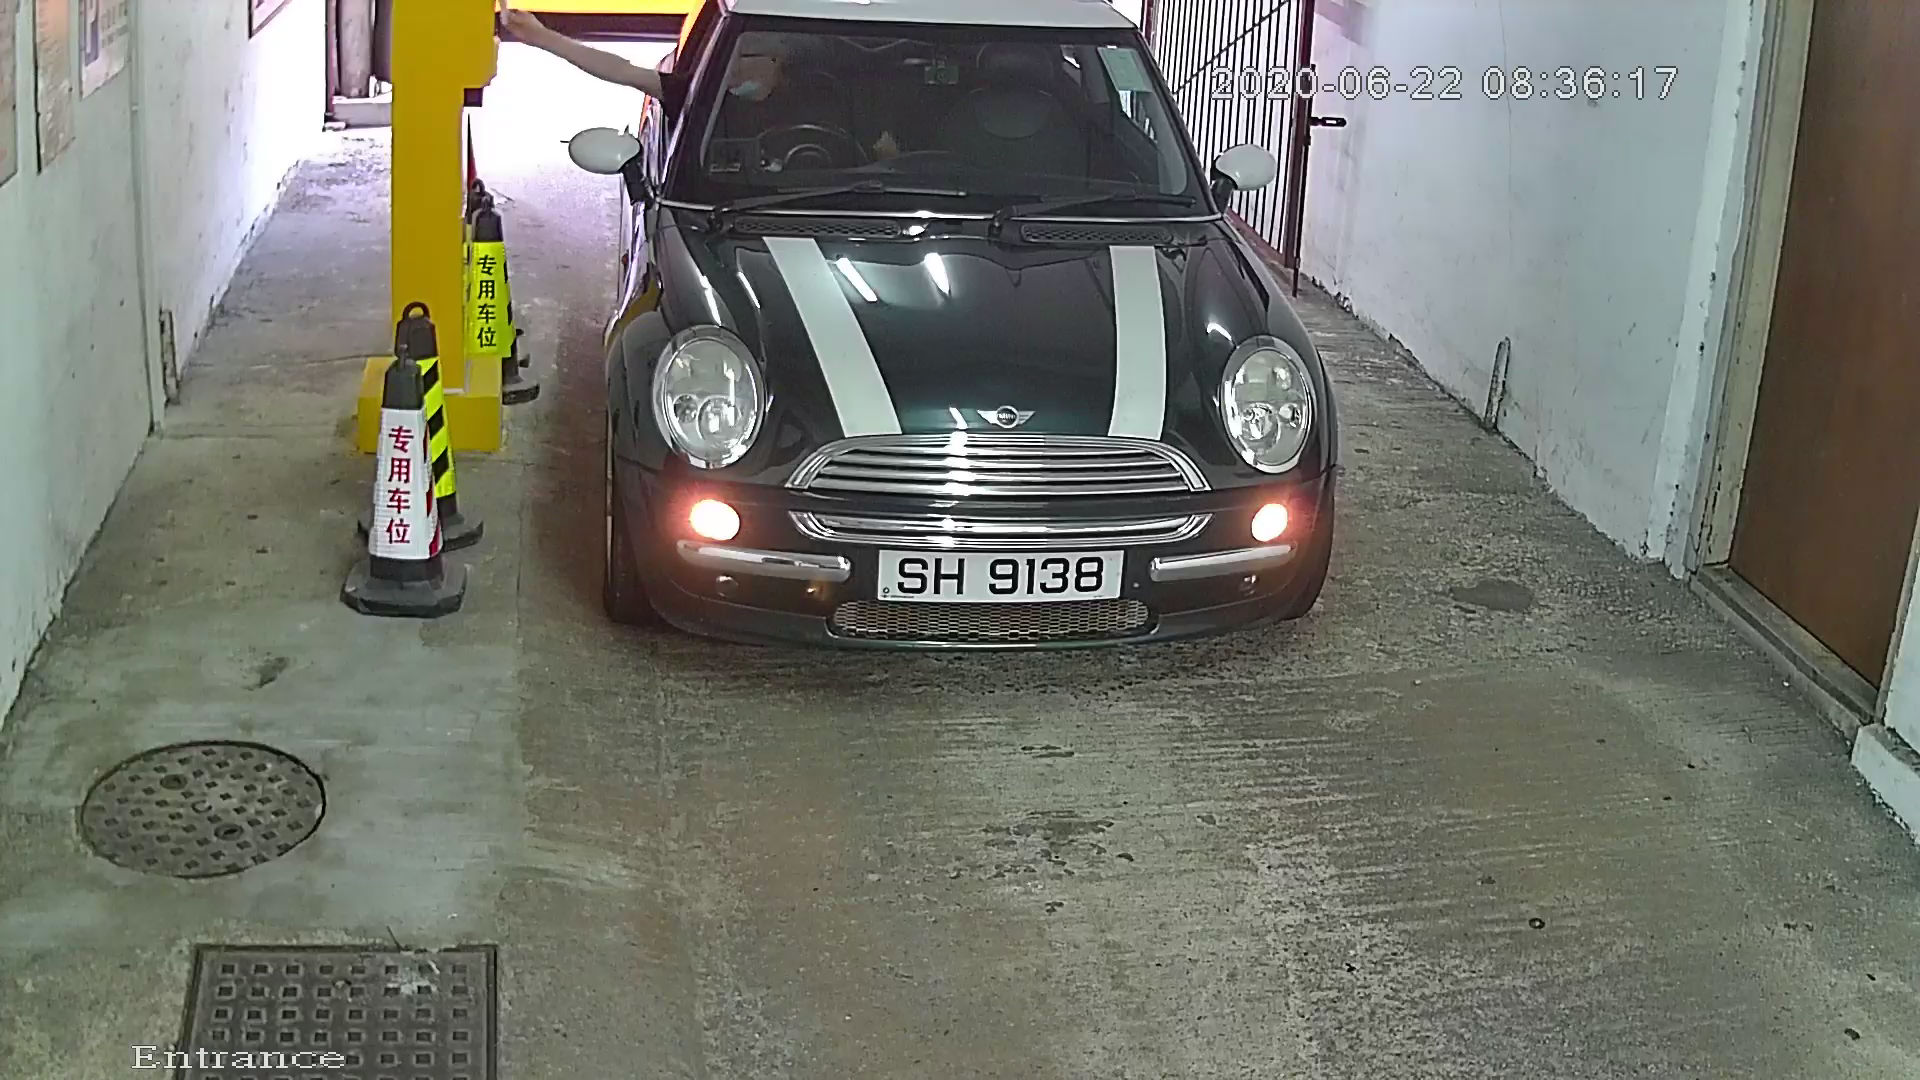privatecar: (596, 3, 1399, 737)
